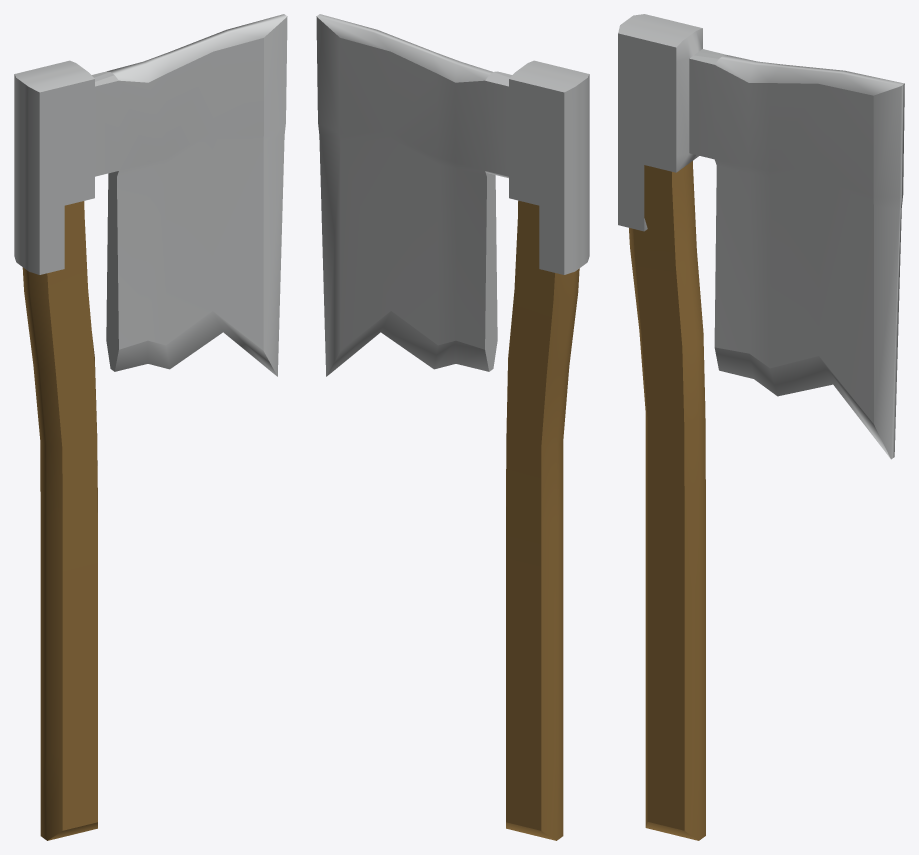
Rendered from Axe.fbx.
The picture shows the model from 3 angles, left to right: view 1: azimuth 30°, elevation 25°; view 2: azimuth 150°, elevation 25°; view 3: azimuth 330°, elevation 25°; orthographic projection. The views are drawn at different scales.
Visible parts, largest first — view 1: pCube3; view 2: pCube3; view 3: pCube3.
Boxes of the visible parts, box(x1,y1,x2,y2) form: pCube3: box(14, 14, 287, 840); pCube3: box(316, 14, 589, 840); pCube3: box(618, 14, 904, 840).
Bounding box in the file's own units: 25 × 69.35 × 4.15.
